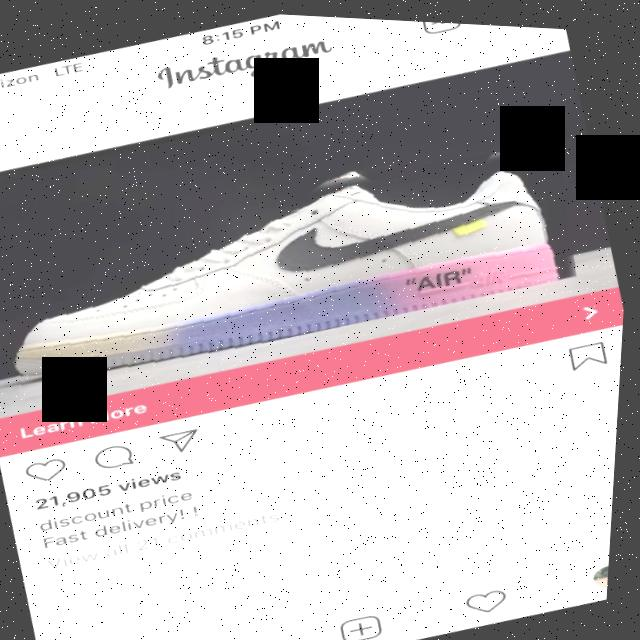shoe: (0, 91, 595, 417)
